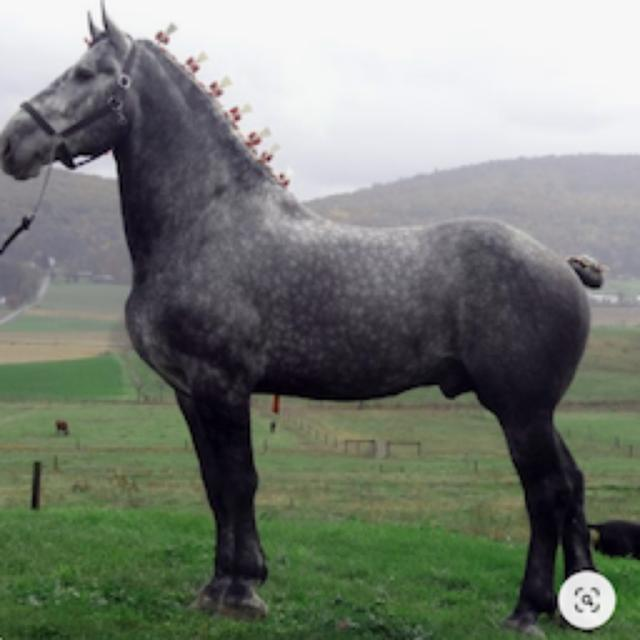Horse: (0, 0, 632, 637)
